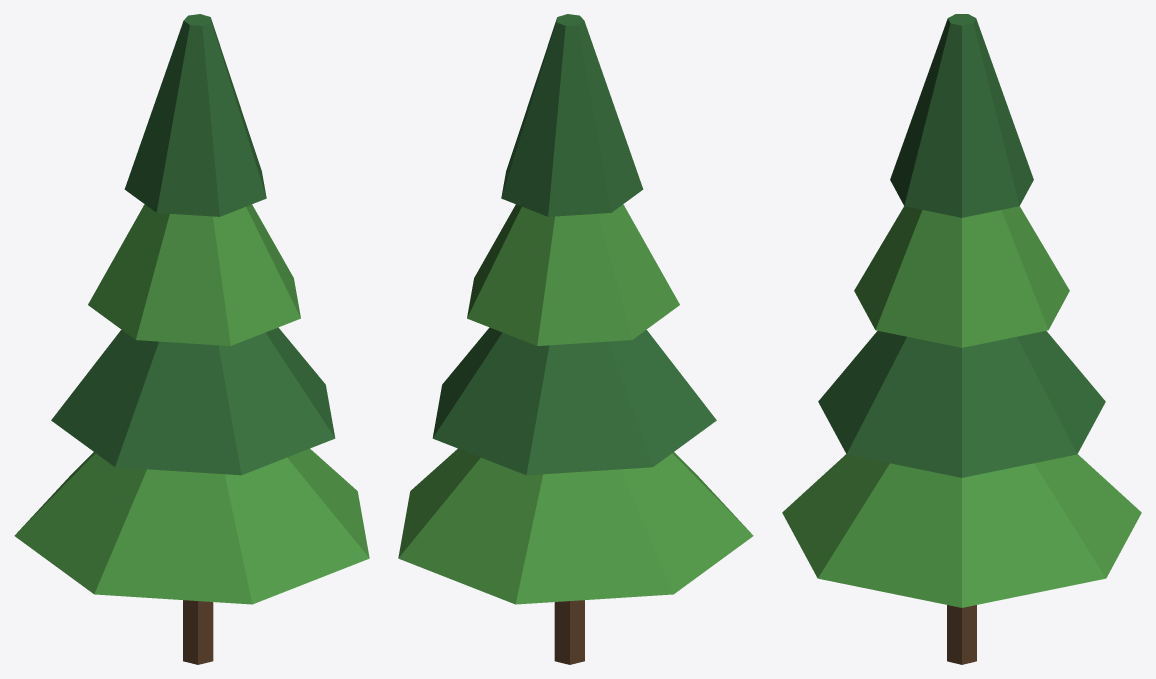
Rendered from pine.glb.
3 renders of one model, left to right at view 1: azimuth 30°, elevation 25°; view 2: azimuth 150°, elevation 25°; view 3: azimuth 270°, elevation 25°, orthographic.
Visible parts, largest first — view 1: pine_Body; view 2: pine_Body; view 3: pine_Body.
Boxes of the visible parts, bbox=[...] form: pine_Body: bbox=[14, 14, 369, 664]; pine_Body: bbox=[398, 14, 753, 664]; pine_Body: bbox=[782, 14, 1141, 664].
Size of the model in its own units: 3.61 by 7.25 by 3.7.
